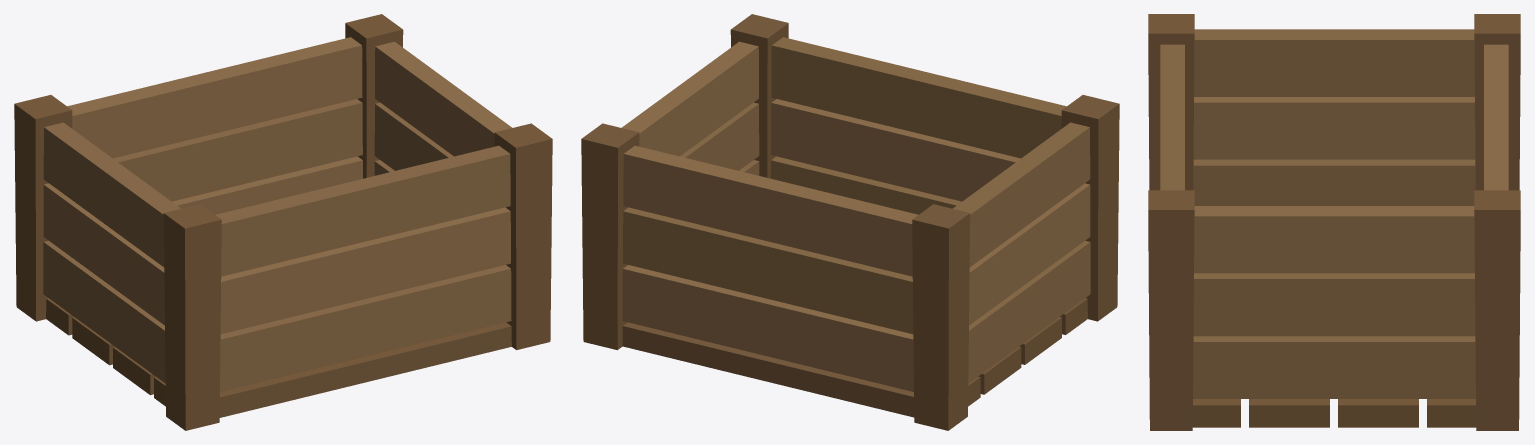
Rendered from Mesh_Props_Box_01.obj.
3 views of the same model, side by side, from view 1: azimuth 30°, elevation 25°; view 2: azimuth 150°, elevation 25°; view 3: azimuth 270°, elevation 25° (orthographic). The views are drawn at different scales.
Parts seen in each view (by area): view 1: Mesh_Props_Box_01_M_LowPolyFarm_MAIN; view 2: Mesh_Props_Box_01_M_LowPolyFarm_MAIN; view 3: Mesh_Props_Box_01_M_LowPolyFarm_MAIN.
Boxes of the visible parts, x1,y1,x2,y2 form: Mesh_Props_Box_01_M_LowPolyFarm_MAIN: [14, 14, 552, 430]; Mesh_Props_Box_01_M_LowPolyFarm_MAIN: [581, 14, 1119, 430]; Mesh_Props_Box_01_M_LowPolyFarm_MAIN: [1148, 14, 1520, 430].
Size of the model in its own units: 0.666 by 0.3518 by 0.5355.
Materials: 1 (1 with a texture image).
